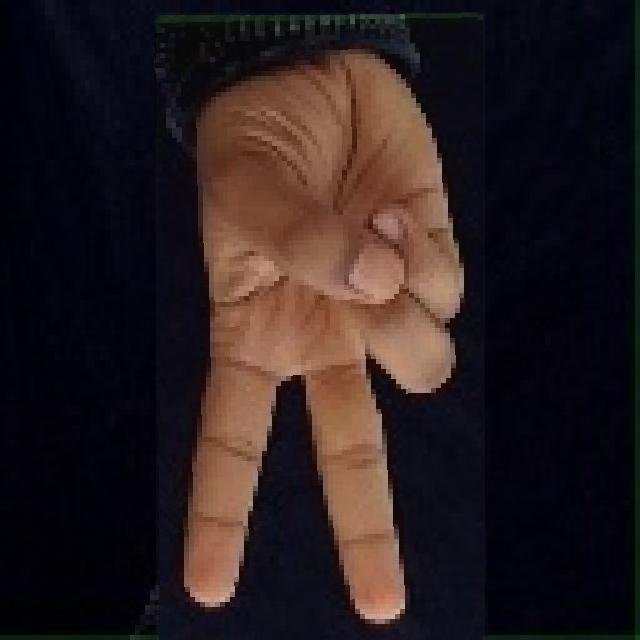No: (156, 13, 485, 640)
